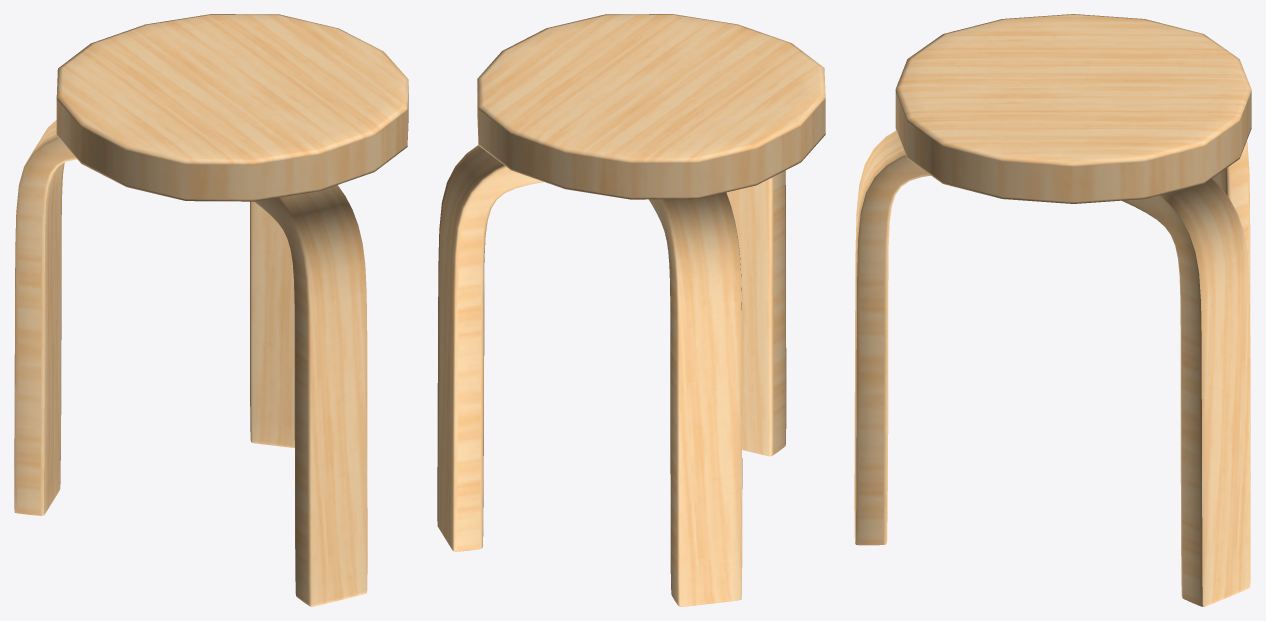
Rendered from Stool.FBX.
The picture shows the model from 3 angles, left to right: view 1: azimuth 30°, elevation 25°; view 2: azimuth 150°, elevation 25°; view 3: azimuth 270°, elevation 25°; orthographic projection. The views are drawn at different scales.
Parts seen in each view (by area): view 1: Top_stool; view 2: Top_stool; view 3: Top_stool.
Boxes of the visible parts, x1,y1,x2,y2 form: Top_stool: [14, 14, 408, 606]; Top_stool: [437, 14, 825, 606]; Top_stool: [854, 14, 1251, 606].
Bounding box in the file's own units: 0.0726 × 0.0796 × 0.0985.
Materials: 2 (1 with a texture image).
